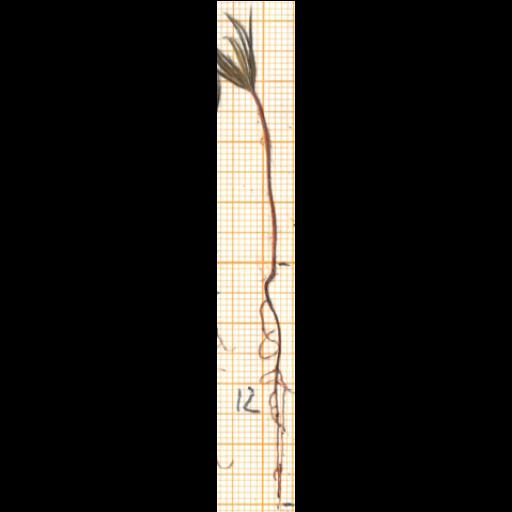flowerPinus: (217, 5, 257, 91)
rootPinus: (259, 269, 291, 499)
stemPinus: (251, 89, 279, 268)
